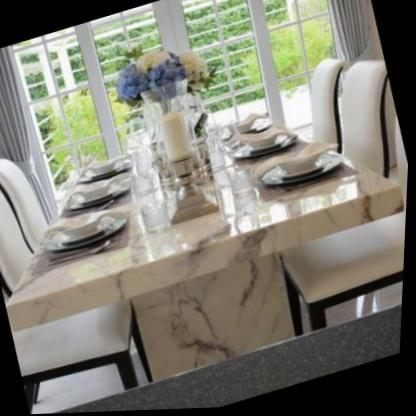Dining Table: (0, 40, 414, 416)
